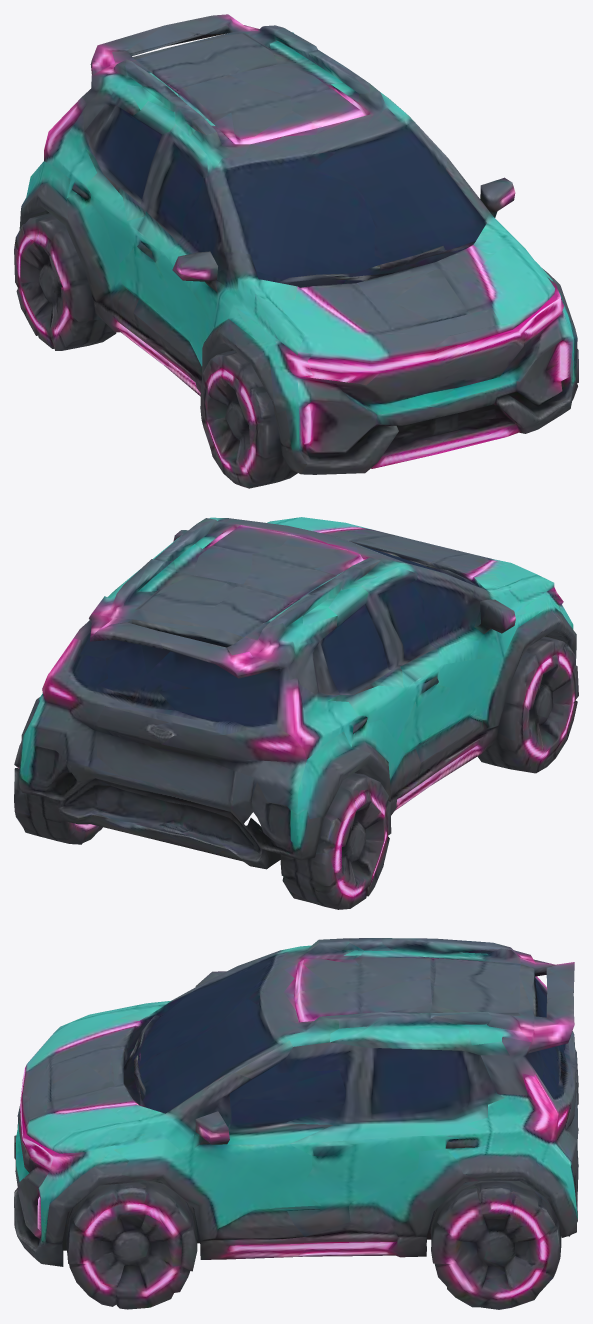
File: env-car-2.glb
The picture shows the model from 3 angles, top to bottom: view 1: azimuth 30°, elevation 25°; view 2: azimuth 150°, elevation 25°; view 3: azimuth 270°, elevation 25°; orthographic projection. The views are drawn at different scales.
Visible parts, largest first — view 1: env-car-2; view 2: env-car-2; view 3: env-car-2.
Boxes of the visible parts, x1,y1,x2,y2 form: env-car-2: (14,14,578,488); env-car-2: (14,517,578,909); env-car-2: (14,938,578,1309).
Bounding box in the file's own units: 2.26 × 1.72 × 3.4.
1 material, 1 textured.
